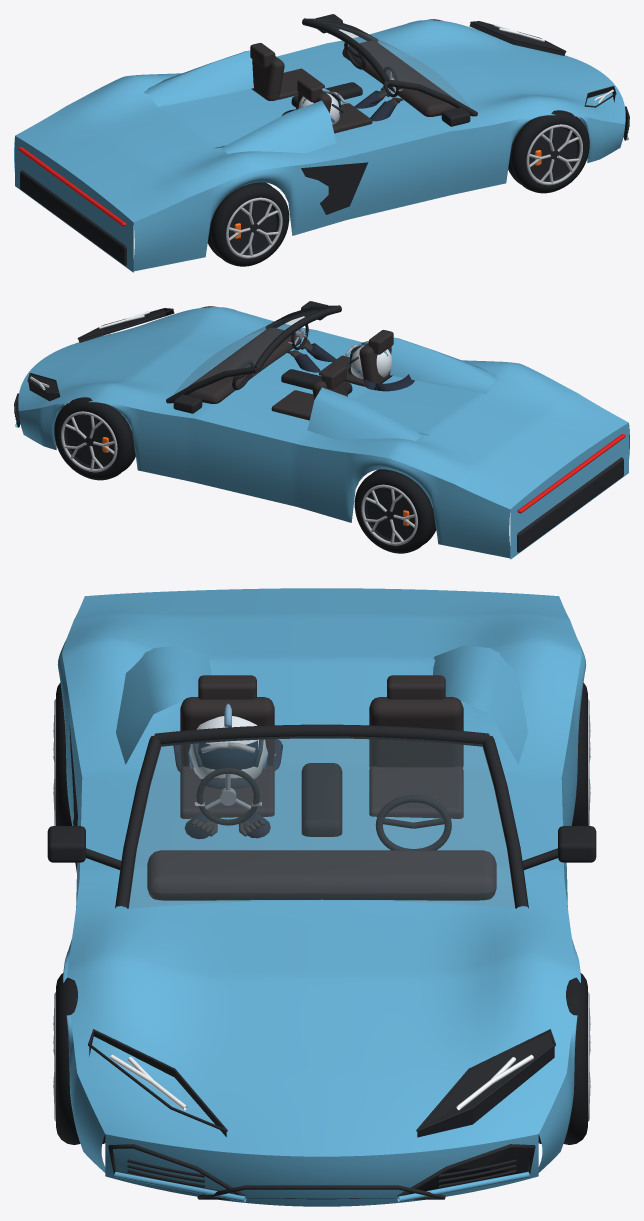
Rendered from lamborghini-aventador-roadster.glb.
The picture shows the model from 3 angles, top to bottom: view 1: azimuth 30°, elevation 25°; view 2: azimuth 150°, elevation 25°; view 3: azimuth 270°, elevation 25°; orthographic projection. The views are drawn at different scales.
Parts seen in each view (by area): view 1: Sculpted bonnet and wheel shoulders, Wheel arch and door skin.001, Bumper skin.001, Rear flying buttress.001, Rear flying buttress, Pneu.007, Pneu.005, Curved windshield, Dashboard, Diffuseur, Entree laterale.001, Disque.002 (+15 smaller); view 2: Sculpted bonnet and wheel shoulders, Wheel arch and door skin, Bumper skin.001, Rear flying buttress, Rear flying buttress.001, Pneu.002, Pneu, Dashboard, Curved windshield, Diffuseur, Disque, Disque.001 (+17 smaller); view 3: Sculpted bonnet and wheel shoulders, Curved windshield, Dashboard, Bumper skin, Rear flying buttress, Rear flying buttress.001, Dossier, Windshield header, Assise, Headlamp sculptured outer housing, Wheel arch and door skin, Wheel arch and door skin.001 (+22 smaller).
Boxes of the visible parts, <box> form: Sculpted bonnet and wheel shoulders: <box>15,20,625,222</box>; Wheel arch and door skin.001: <box>133,114,625,271</box>; Bumper skin.001: <box>15,136,133,272</box>; Rear flying buttress.001: <box>214,100,336,154</box>; Rear flying buttress: <box>144,50,253,106</box>; Pneu.007: <box>210,183,289,266</box>; Pneu.005: <box>511,110,589,193</box>; Curved windshield: <box>322,22,469,106</box>; Dashboard: <box>342,40,456,116</box>; Diffuseur: <box>20,170,126,265</box>; Entree laterale.001: <box>301,162,368,214</box>; Disque.002: <box>529,128,577,179</box>; Sculpted bonnet and wheel shoulders: <box>18,307,628,509</box>; Wheel arch and door skin: <box>18,401,510,558</box>; Bumper skin.001: <box>510,423,628,559</box>; Rear flying buttress: <box>307,387,429,441</box>; Rear flying buttress.001: <box>390,337,499,393</box>; Pneu.002: <box>354,470,433,553</box>; Pneu: <box>54,397,132,480</box>; Dashboard: <box>187,327,301,403</box>; Curved windshield: <box>174,309,321,393</box>; Diffuseur: <box>517,457,623,552</box>; Disque: <box>66,415,114,466</box>; Disque.001: <box>367,488,415,539</box>; Sculpted bonnet and wheel shoulders: <box>62,588,581,1156</box>; Curved windshield: <box>122,736,521,908</box>; Dashboard: <box>147,850,496,900</box>; Bumper skin: <box>105,1134,538,1206</box>; Rear flying buttress: <box>433,645,527,764</box>; Rear flying buttress.001: <box>116,645,210,764</box>; Dossier: <box>369,697,463,767</box>; Windshield header: <box>154,724,489,746</box>; Assise: <box>369,766,463,818</box>; Headlamp sculptured outer housing: <box>417,1031,554,1137</box>; Wheel arch and door skin: <box>538,640,586,1172</box>; Wheel arch and door skin.001: <box>57,640,105,1172</box>.
Bounding box in the file's own units: 4.83 × 1.21 × 2.15.
